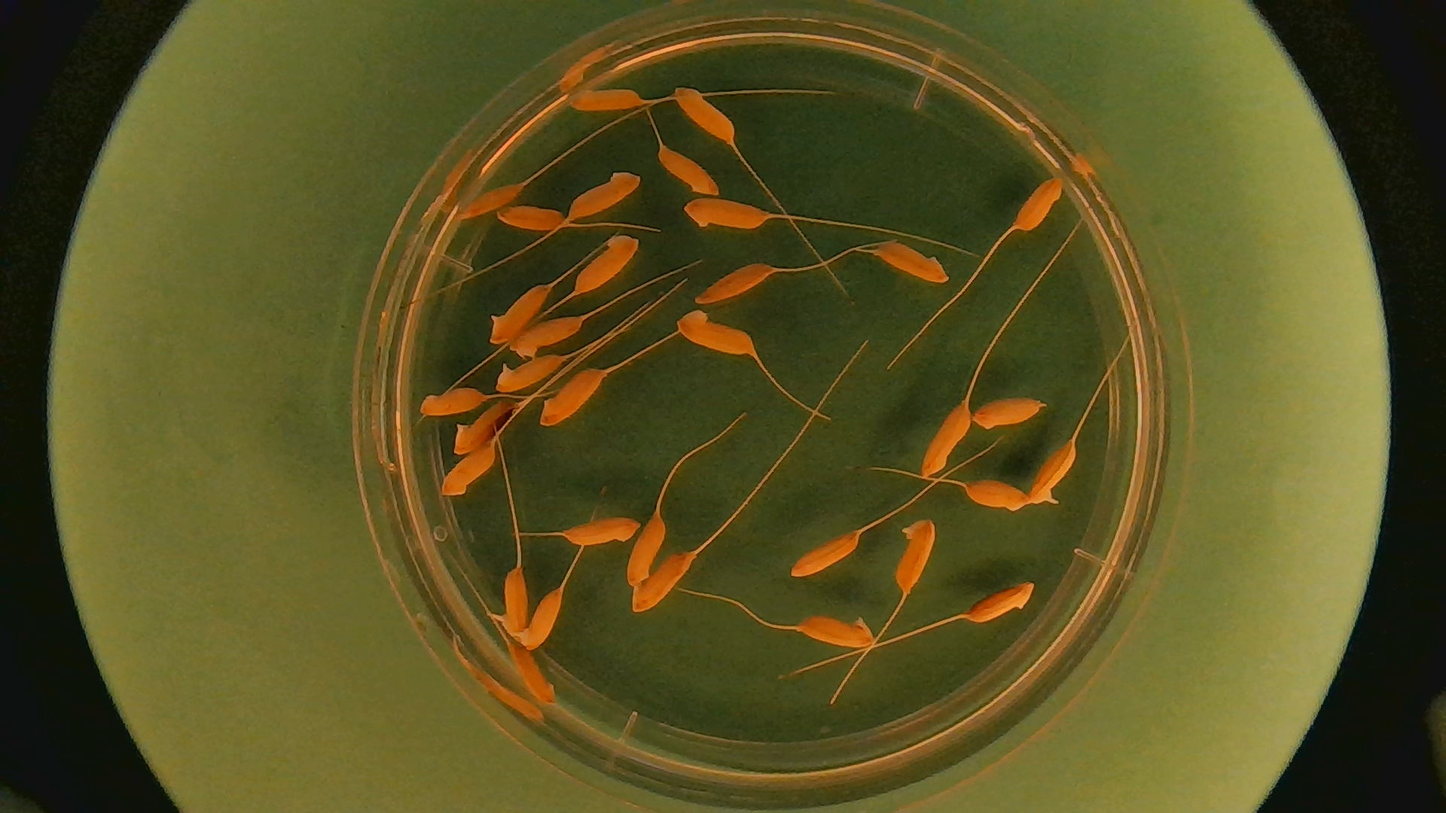no: (573, 235, 644, 297), (628, 553, 698, 615), (673, 311, 761, 357), (920, 403, 971, 481), (541, 369, 608, 428), (487, 348, 573, 393), (566, 169, 643, 218), (695, 259, 773, 306), (493, 279, 552, 341), (654, 147, 722, 200), (624, 513, 670, 591), (789, 531, 862, 579), (508, 641, 560, 707), (678, 87, 740, 142), (893, 517, 936, 595), (453, 403, 520, 451), (964, 581, 1036, 624), (799, 612, 875, 652), (873, 243, 947, 284), (440, 445, 499, 496), (687, 196, 768, 233), (454, 181, 526, 222), (511, 315, 585, 354), (1014, 174, 1063, 231), (558, 516, 640, 550), (972, 395, 1051, 430), (563, 85, 644, 114), (964, 477, 1027, 512), (419, 385, 488, 416), (493, 206, 567, 233)
yes: (508, 581, 563, 653), (1031, 440, 1078, 508), (491, 564, 530, 644)
